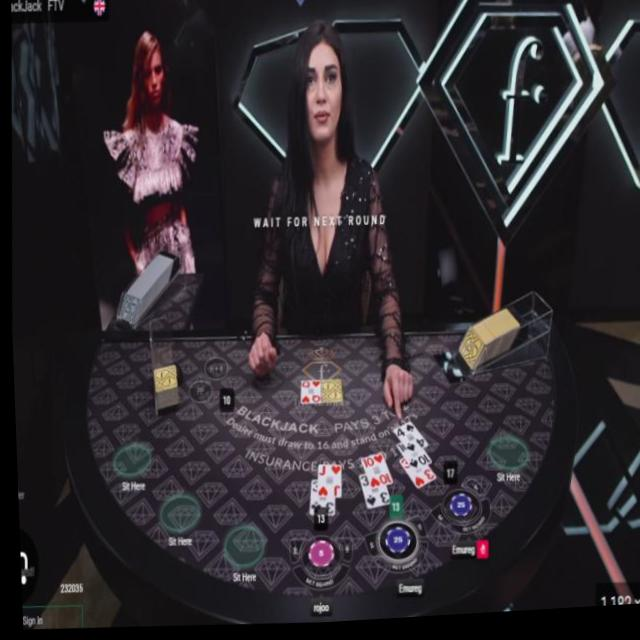Card-10: (358, 457, 389, 492), (392, 448, 428, 475)
Card-3: (354, 477, 387, 512), (395, 462, 431, 493), (305, 482, 331, 519)
Card-4: (389, 425, 424, 459)
Card-J: (313, 467, 337, 500)
Card-Q: (298, 384, 317, 406)
